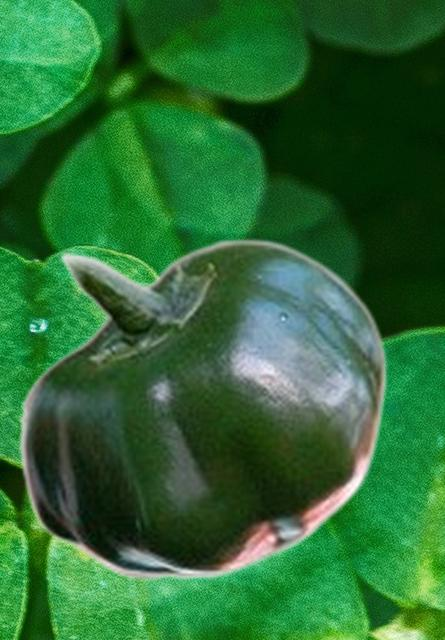bell_pepper: (16, 237, 387, 579)
